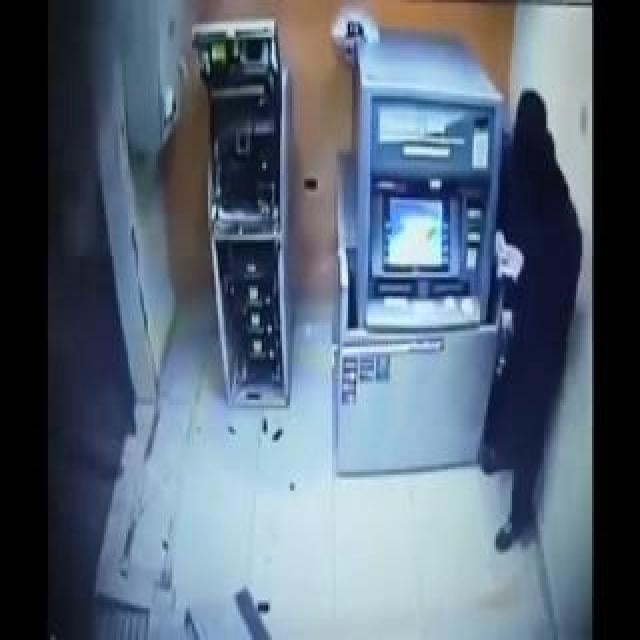thief: (484, 71, 578, 295)
